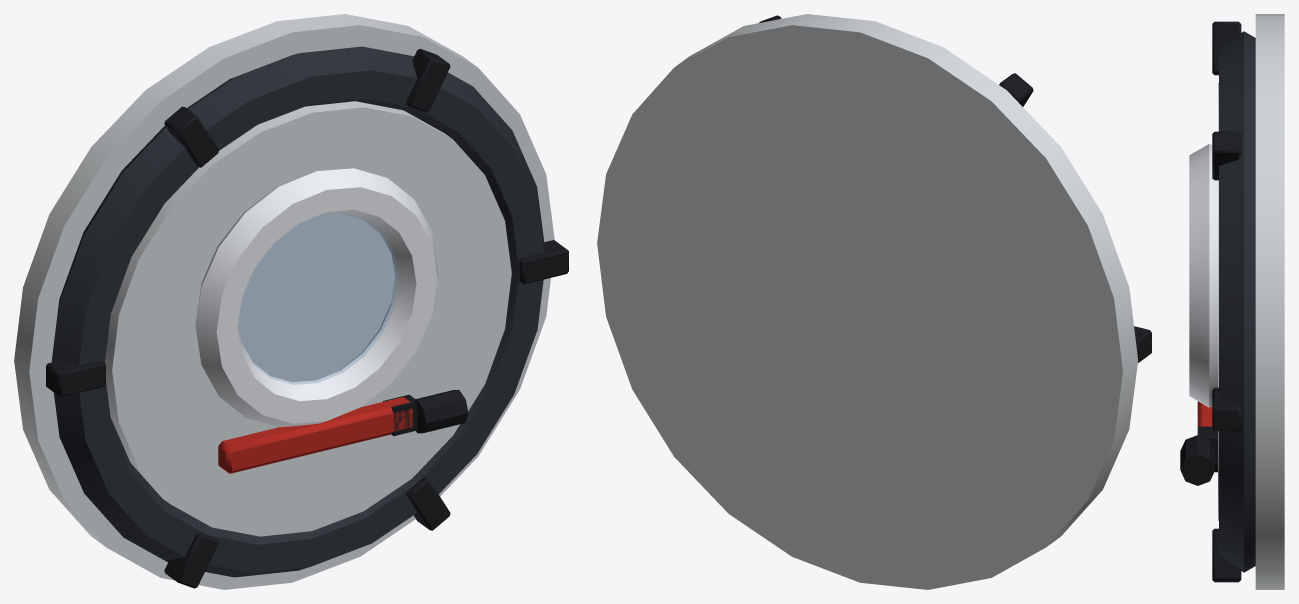
Rendered from hatch_porthole_round.glb.
3 views of the same model, side by side, from view 1: azimuth 30°, elevation 25°; view 2: azimuth 150°, elevation 25°; view 3: azimuth 270°, elevation 25° (orthographic). The views are drawn at different scales.
Parts seen in each view (by area): view 1: hatch_porthole_round; view 2: hatch_porthole_round; view 3: hatch_porthole_round.
Boxes of the visible parts, bbox=[...] form: hatch_porthole_round: bbox=[14, 14, 568, 589]; hatch_porthole_round: bbox=[597, 14, 1151, 589]; hatch_porthole_round: bbox=[1180, 14, 1284, 589].
Size of the model in its own units: 1 by 1 by 0.18.
